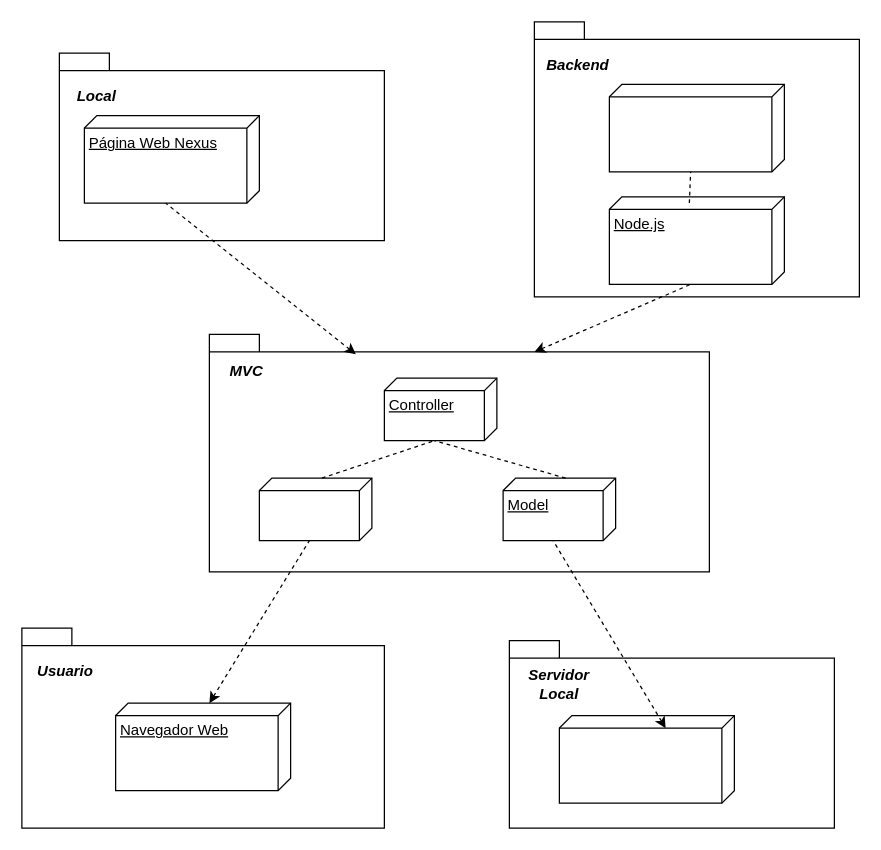
Some shapes in this 881 by 850 pixel diagram are drawn without their labels. Here are the shapes that lost their labels. From the top down, the centre of each, then its label:
(x=696, y=127): Express
(x=315, y=509): View
(x=646, y=758): PostgreSQL
